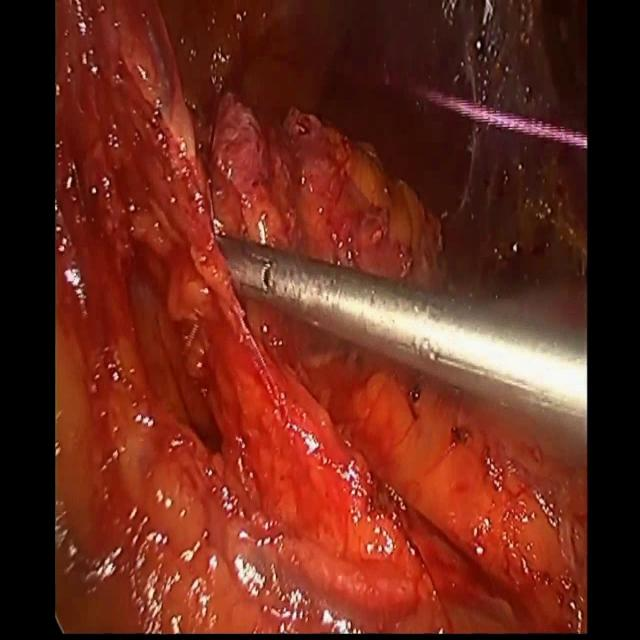surgical-area: (54, 0, 588, 635)
surgical-tool: (216, 232, 588, 466)
